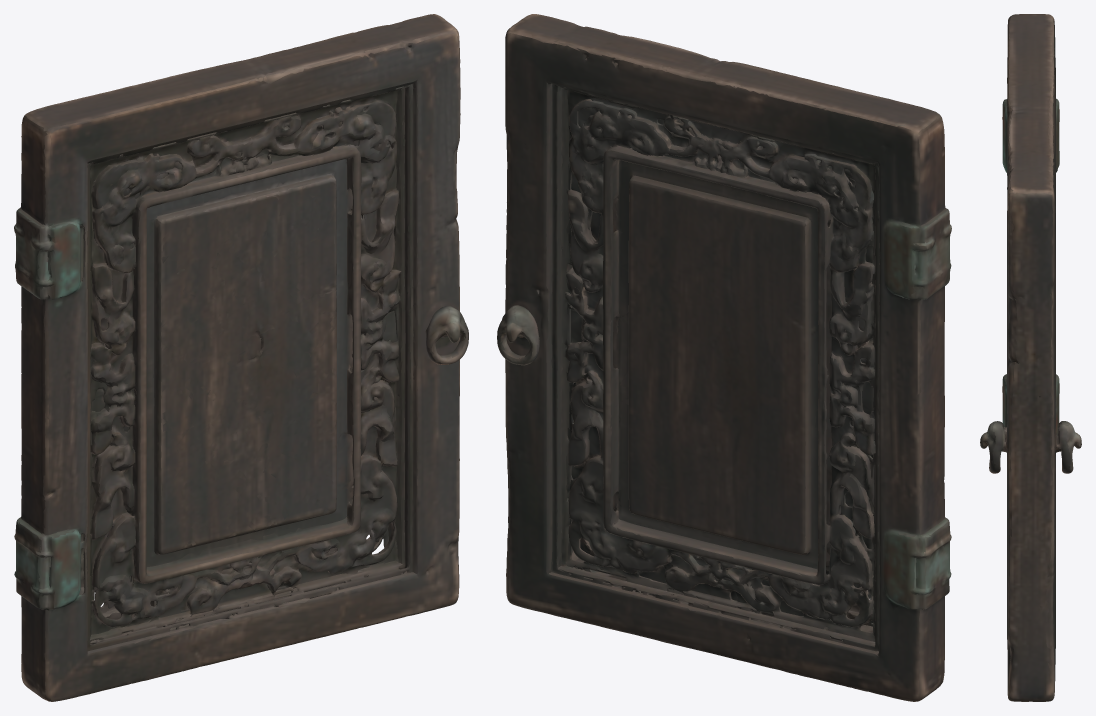
Rendered from S1-08_cabinet_door_A.glb.
3 views of the same model, side by side, from view 1: azimuth 30°, elevation 25°; view 2: azimuth 150°, elevation 25°; view 3: azimuth 270°, elevation 25° (orthographic). The views are drawn at different scales.
Parts seen in each view (by area): view 1: geometry_0; view 2: geometry_0; view 3: geometry_0.
Part boxes in pixels (bbox=[...]): geometry_0: bbox=[14, 14, 468, 701]; geometry_0: bbox=[497, 14, 951, 701]; geometry_0: bbox=[980, 14, 1081, 701].
Size of the model in its own units: 1.55 by 2 by 0.36.
Materials: 1 (1 with a texture image).
